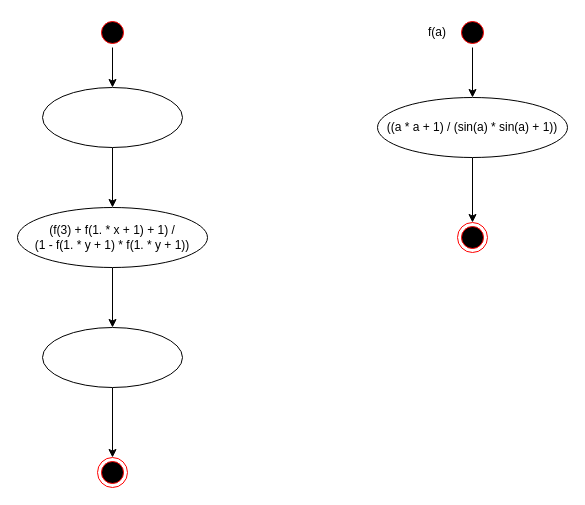
Some shapes in this 585 by 505 pixel diagram are drawn without their labels. Here are the shapes that lost their labels. From the top down, the box of each, then its label:
(42, 86, 182, 148): Ввід x, y
(42, 326, 182, 388): Вивід c
